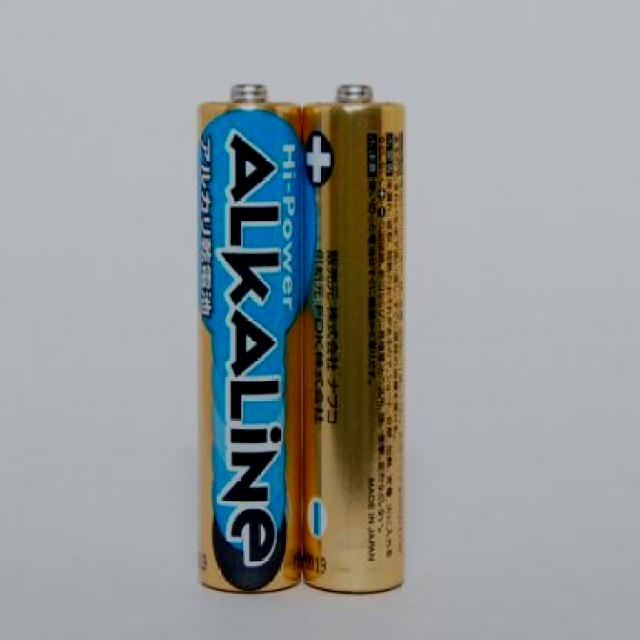AA: (190, 77, 304, 605), (302, 81, 409, 602)
